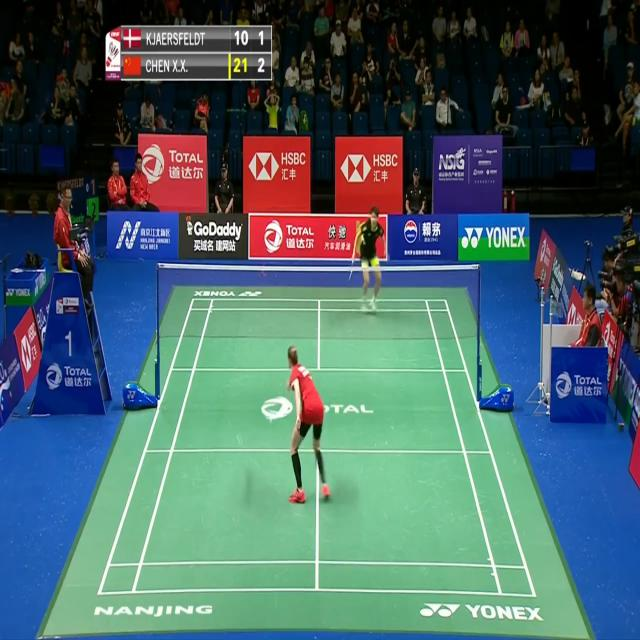Player1: (268, 336, 336, 517)
Player2: (342, 200, 392, 317)
